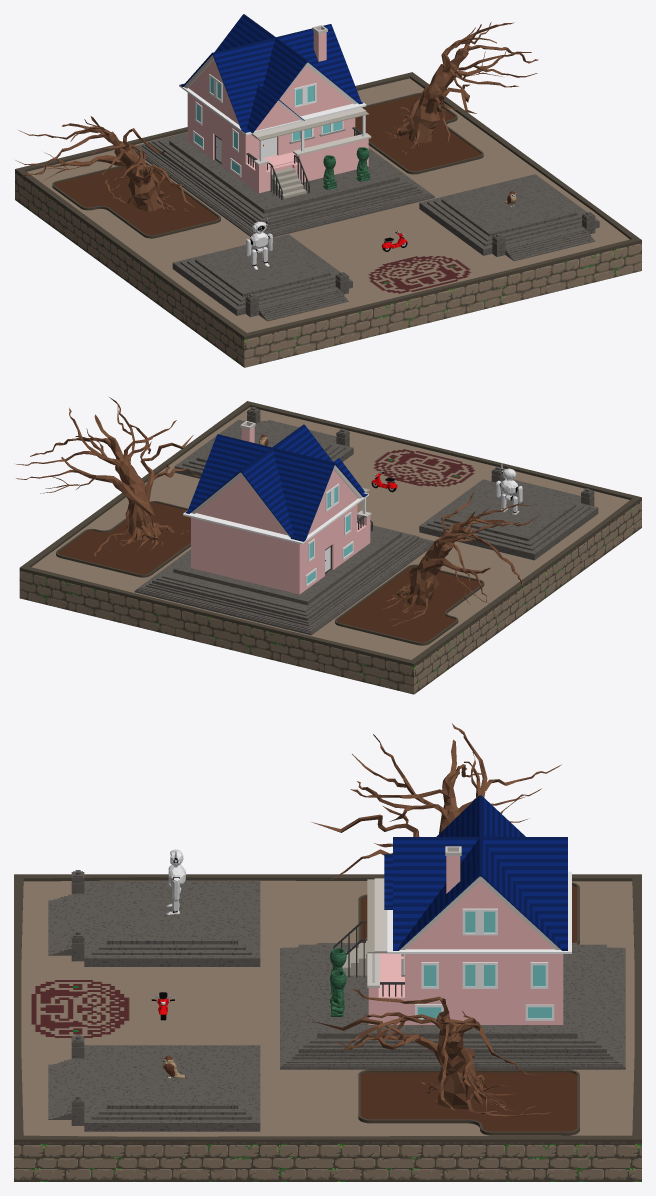
3 views of the same model, one above another, from view 1: azimuth 30°, elevation 25°; view 2: azimuth 150°, elevation 25°; view 3: azimuth 270°, elevation 25° (orthographic). The views are drawn at different scales.
Parts seen in each view (by area): view 1: Cube.011, Cube.313, OBJRANDOM_PLATZEEBOT; view 2: Cube.011, Cube.313, OBJRANDOM_PLATZEEBOT; view 3: Cube.011, Cube.313, OBJRANDOM_PLATZEEBOT.
Part boxes in pixels (bbox=[...]): Cube.011: bbox=[15, 22, 641, 367]; Cube.313: bbox=[179, 14, 371, 199]; OBJRANDOM_PLATZEEBOT: bbox=[246, 216, 272, 269]; Cube.011: bbox=[14, 397, 641, 694]; Cube.313: bbox=[183, 421, 372, 594]; OBJRANDOM_PLATZEEBOT: bbox=[496, 463, 522, 514]; Cube.011: bbox=[14, 723, 641, 1181]; Cube.313: bbox=[333, 795, 571, 1024]; OBJRANDOM_PLATZEEBOT: bbox=[166, 849, 185, 914].
Bounding box in the file's own units: 5099 × 1683 × 4000.
35 materials, 6 textured.
